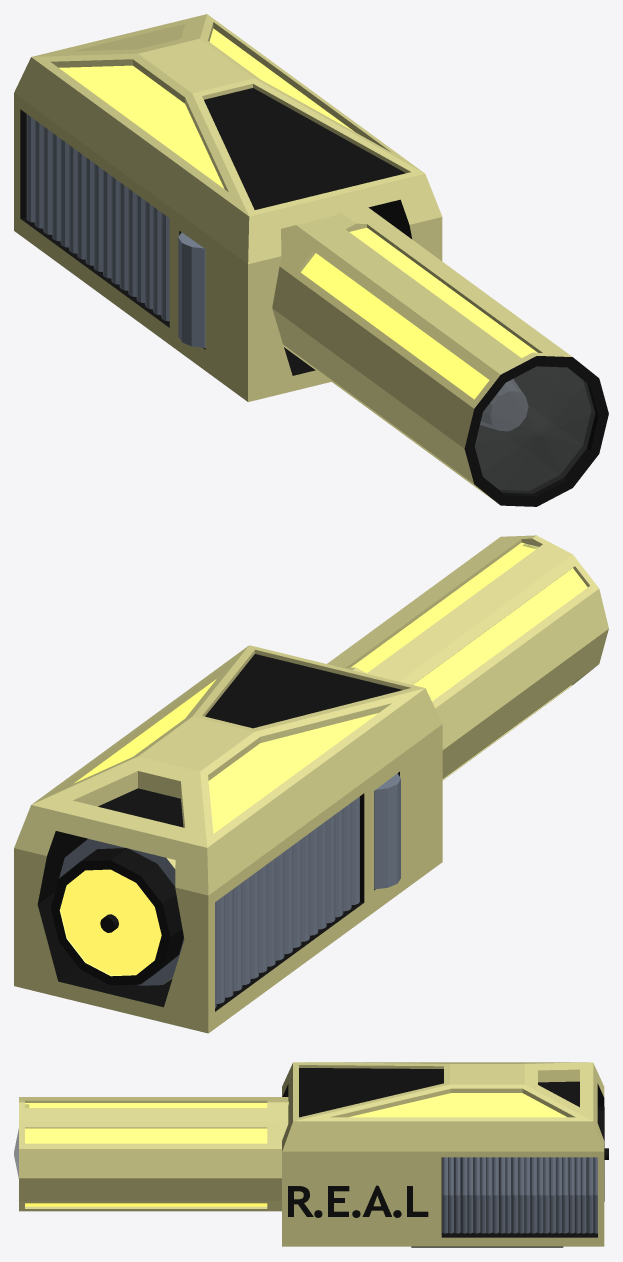
The model's file is RealPulseLaser.glb.
The picture shows the model from 3 angles, top to bottom: view 1: azimuth 30°, elevation 25°; view 2: azimuth 150°, elevation 25°; view 3: azimuth 270°, elevation 25°; orthographic projection. The views are drawn at different scales.
Parts seen in each view (by area): view 1: RealPulseLaser.001; view 2: RealPulseLaser.001; view 3: RealPulseLaser.001.
Boxes of the visible parts, <box> form: RealPulseLaser.001: <box>14,14,608,506</box>; RealPulseLaser.001: <box>14,535,608,1033</box>; RealPulseLaser.001: <box>14,1062,608,1247</box>.
Bounding box in the file's own units: 1.08 × 1.11 × 3.92.
